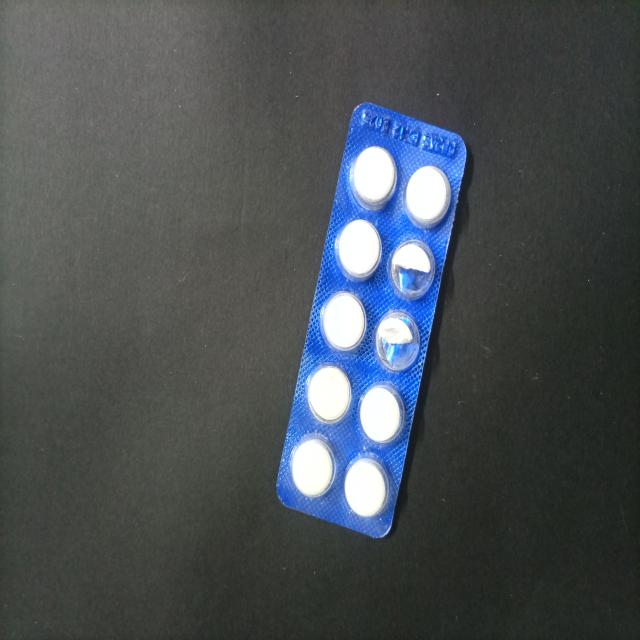defect: (372, 307, 422, 376), (388, 237, 437, 302)
